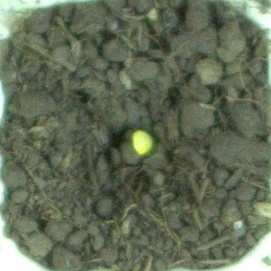pepper seed: (53, 51, 209, 207)
